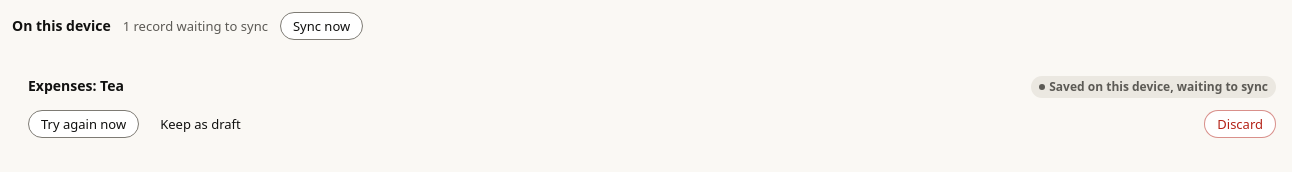
Test: Keep as draft on a row another tab has claimed is refused, says so, and sends nothing of its own
Expected: the text "Saved on this device, waiting to sync" is shown, x1=1031 y1=76 x2=1276 y2=98
Click the button "Keep as draft". click: (200, 124)
box: x1=147 y1=110 x2=254 y2=138
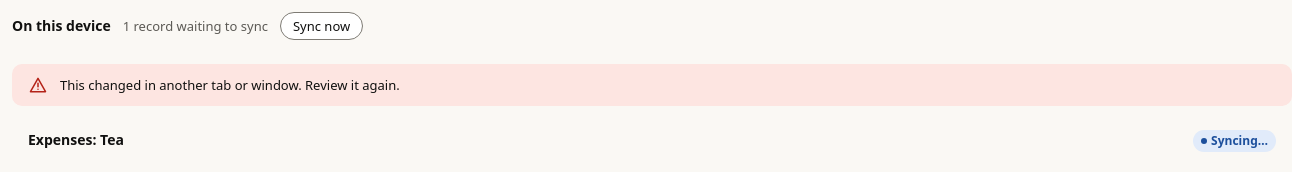
Result: the message shows "changed in another tab" at x1=60 y1=76 x2=400 y2=94
Result: the text "Syncing…" is shown at x1=1193 y1=130 x2=1276 y2=152
